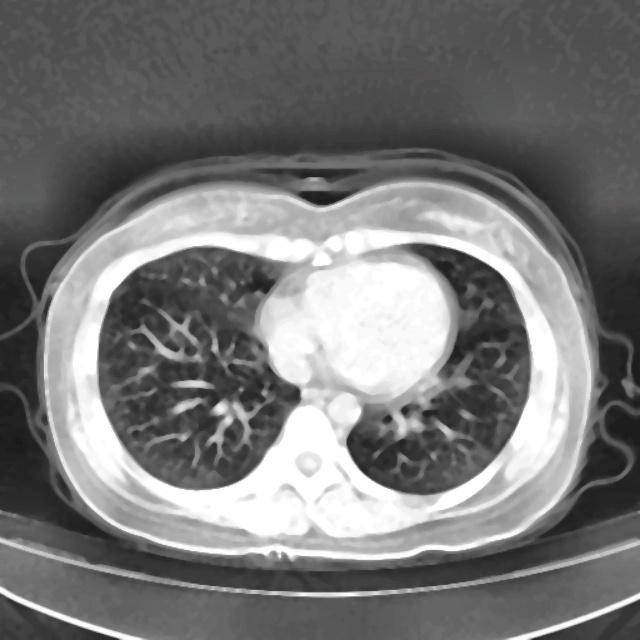covid: (11, 148, 625, 571)
